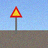sign: (10, 6, 22, 34)
